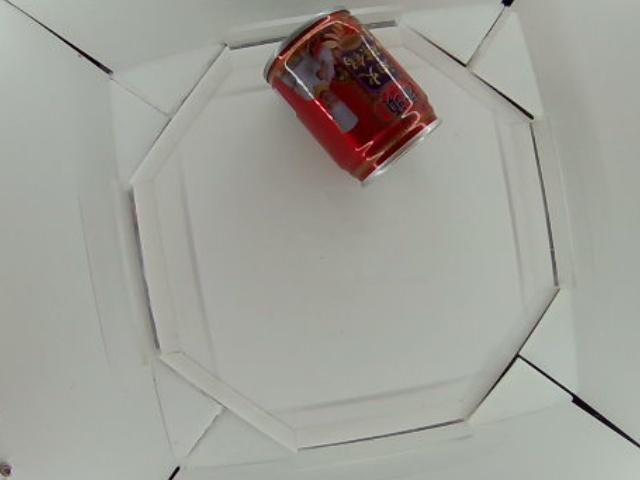Bottle: (261, 11, 438, 184)
